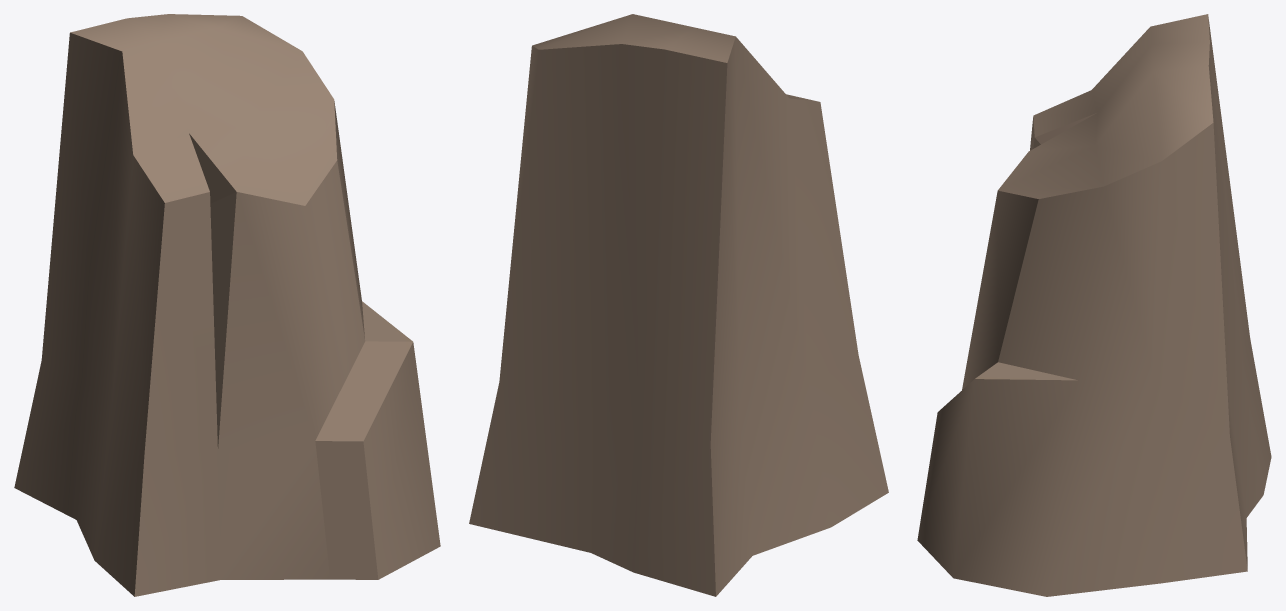
Rendered from Rock2.FBX.
The picture shows the model from 3 angles, left to right: view 1: azimuth 30°, elevation 25°; view 2: azimuth 150°, elevation 25°; view 3: azimuth 270°, elevation 25°; orthographic projection. The views are drawn at different scales.
Visible parts, largest first — view 1: Rock2; view 2: Rock2; view 3: Rock2.
Part boxes in pixels (x1=…): Rock2: x1=14, y1=14, x2=440, y2=596; Rock2: x1=469, y1=14, x2=888, y2=596; Rock2: x1=917, y1=14, x2=1271, y2=596.
Size of the model in its own units: 100 by 142 by 100.
